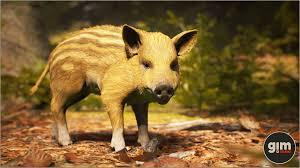wildboar: (27, 22, 202, 155)
